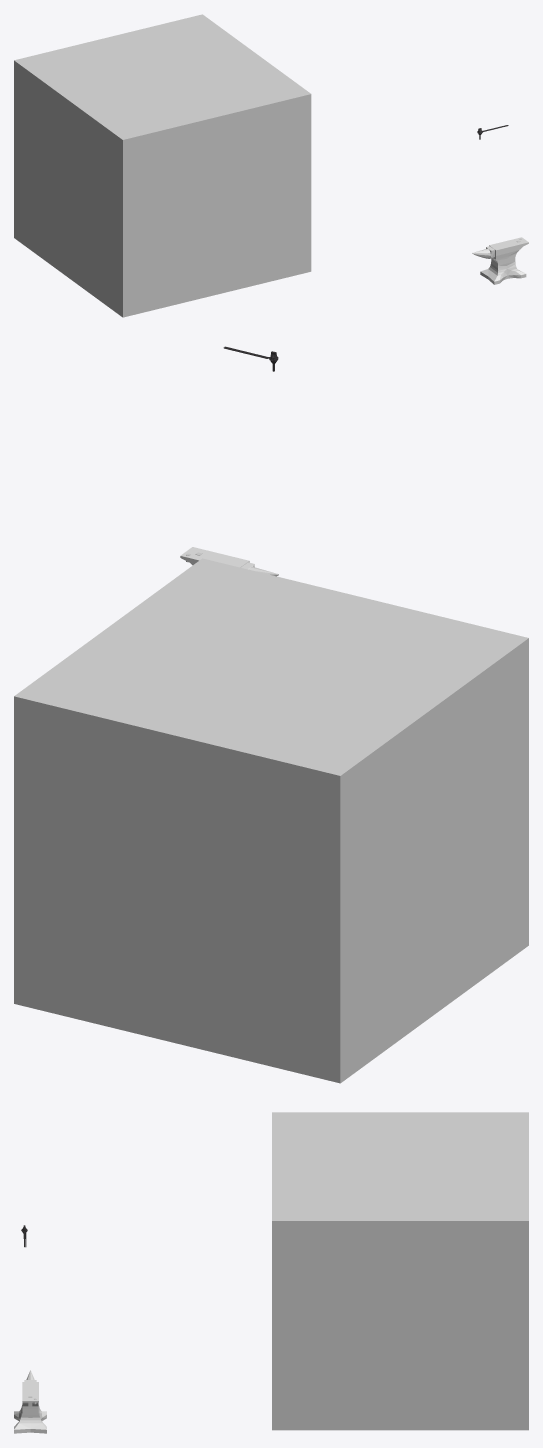
File: rounddriftpunch.dae
3 renders of one model, top to bottom at view 1: azimuth 30°, elevation 25°; view 2: azimuth 150°, elevation 25°; view 3: azimuth 270°, elevation 25°, orthographic. The views are drawn at different scales.
Visible parts, largest first — view 1: Cube_004, Cube_002; view 2: Cube_004, Cube_002; view 3: Cube_004, Cube_002.
Part boxes in pixels (x1,y1,x2,y2): Cube_004: [14, 14, 311, 317]; Cube_002: [472, 237, 528, 284]; Cube_004: [14, 558, 528, 1083]; Cube_002: [180, 547, 278, 576]; Cube_004: [272, 1112, 528, 1430]; Cube_002: [14, 1370, 46, 1433].
Bounding box in the file's own units: 3.18 × 4.01 × 2.07.
1 material, 1 textured.
